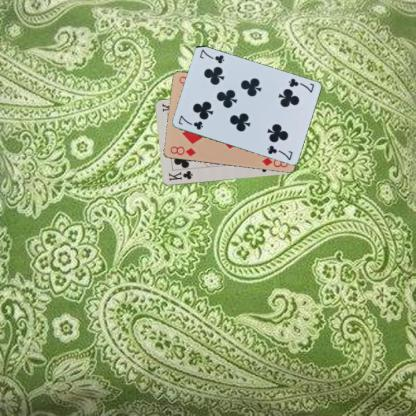7c: (285, 76, 315, 94), (176, 113, 204, 131)
8d: (168, 143, 196, 158)
Kc: (166, 168, 193, 182)
